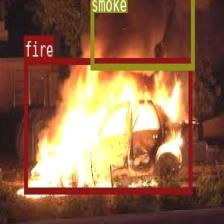fire: (24, 58, 192, 192)
smoke: (90, 0, 194, 69)
